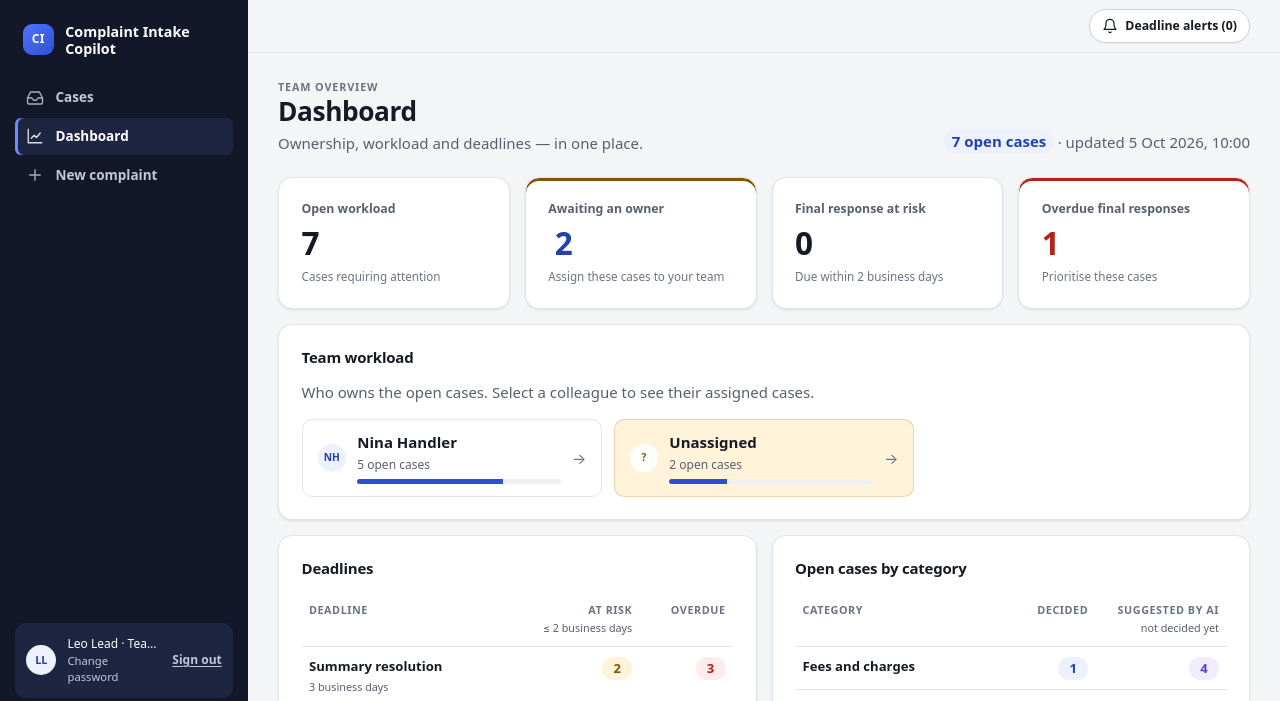
Test: the dashboard › opens the matching cases and asks the API for exactly those
What coordinates should you click on to do the following:
click the link named "3 cases: Summary resolution overdue"
I would click on:
 (710, 668)
Its box is [696,657,726,680].
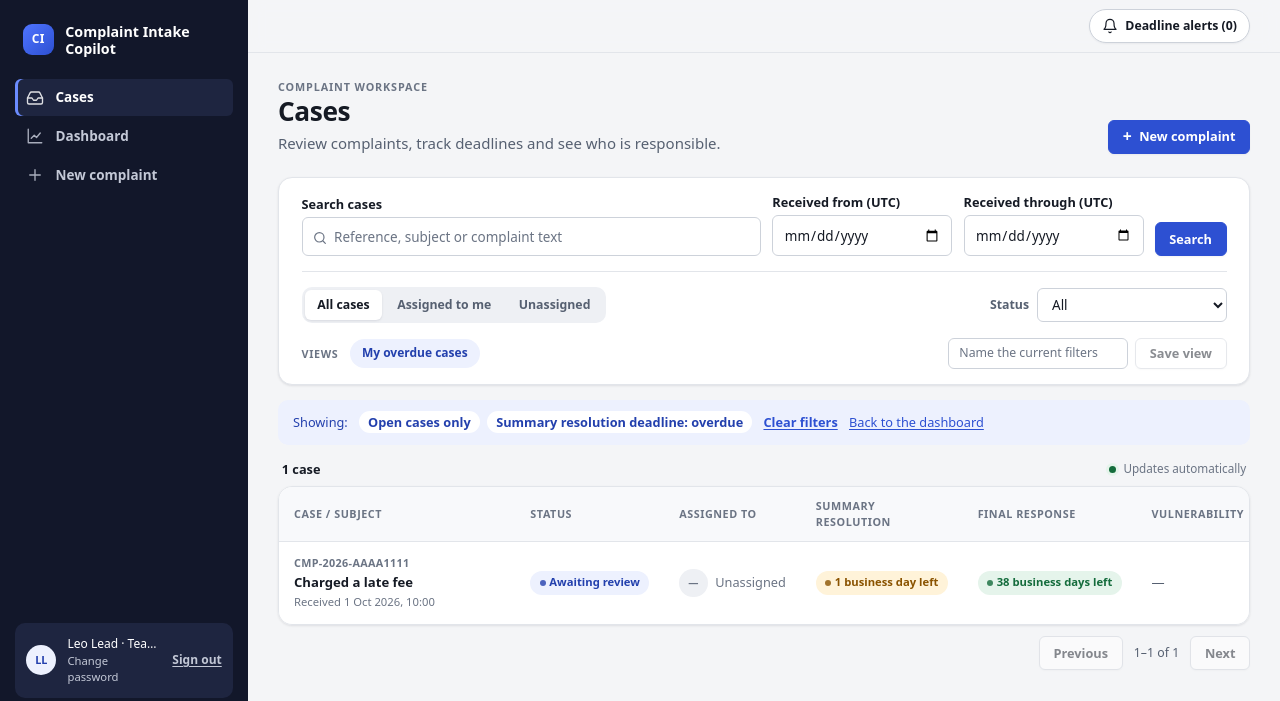
Now the heading "Cases" is shown, box [278,93,350,129]
Now the list item "Open cases only" is shown, box [359,411,480,433]
Now the list item "Summary resolution deadline: overdue" is shown, box [487,411,752,433]
